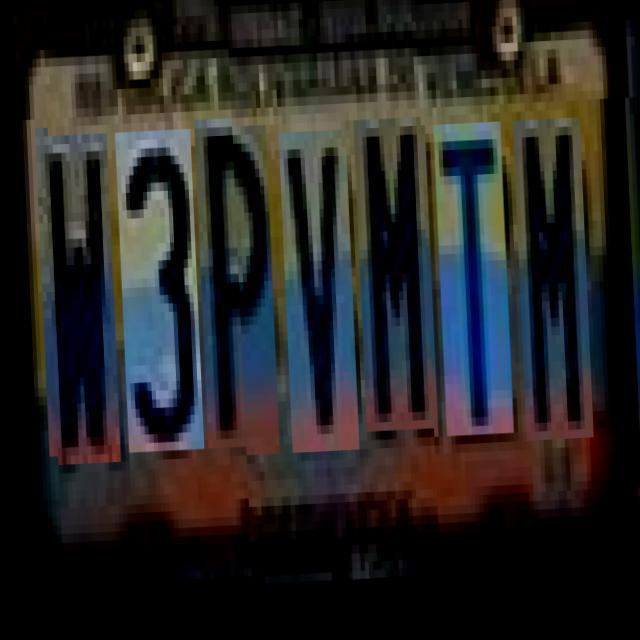3: (114, 131, 200, 454)
M: (352, 113, 434, 427), (511, 106, 588, 429)
P: (194, 120, 276, 450)
T: (431, 110, 509, 424)
V: (277, 125, 355, 448)
W: (34, 134, 116, 466)
